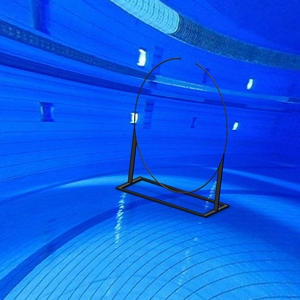circle: (115, 56, 230, 218)
